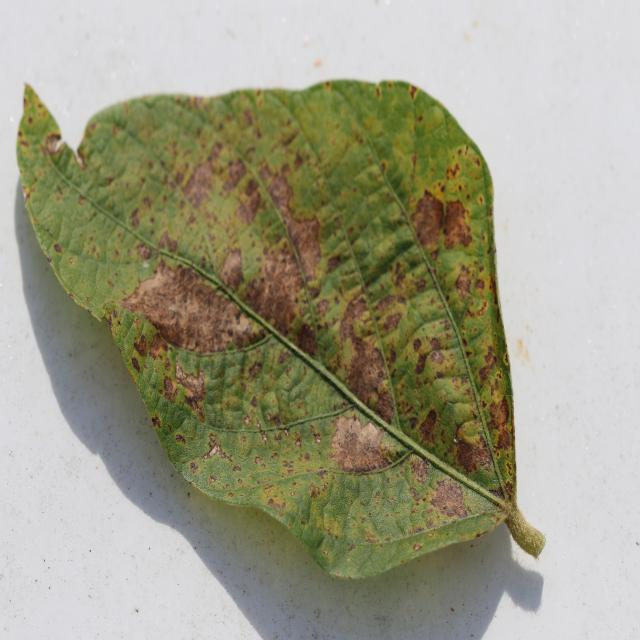Bacterial_Blight: (137, 285, 221, 340), (340, 333, 391, 412), (330, 413, 391, 475), (410, 174, 452, 253), (284, 213, 322, 278), (182, 159, 222, 211), (199, 434, 242, 476), (485, 394, 512, 456), (454, 432, 491, 475), (173, 360, 206, 408), (429, 479, 468, 519), (442, 199, 473, 248), (339, 294, 370, 337), (234, 182, 262, 226), (372, 292, 405, 324), (268, 173, 295, 210), (220, 249, 243, 287), (417, 408, 439, 446), (295, 322, 318, 358), (478, 350, 499, 385), (409, 457, 430, 482), (455, 272, 473, 299), (162, 376, 179, 402), (149, 333, 166, 359), (44, 132, 63, 155), (157, 230, 175, 253), (445, 160, 463, 181), (132, 334, 148, 357), (499, 395, 511, 425), (203, 440, 220, 459), (248, 360, 263, 380), (415, 351, 428, 374), (429, 349, 446, 366), (137, 243, 152, 262), (130, 207, 142, 230), (309, 424, 322, 445), (363, 529, 380, 544), (267, 497, 284, 511), (270, 412, 283, 427), (131, 355, 141, 374), (150, 413, 161, 429), (105, 314, 114, 331), (174, 433, 186, 445), (409, 84, 418, 99), (259, 430, 268, 444), (53, 243, 63, 254), (317, 468, 327, 479), (250, 395, 258, 408), (189, 461, 198, 472), (375, 85, 382, 98), (254, 456, 263, 466), (243, 415, 251, 426), (477, 194, 485, 205), (412, 543, 422, 551), (209, 433, 217, 443), (294, 438, 301, 448), (274, 432, 281, 442), (209, 476, 217, 484), (69, 256, 75, 266), (85, 296, 91, 304), (266, 413, 272, 421)
Soybean: (15, 79, 545, 584)
